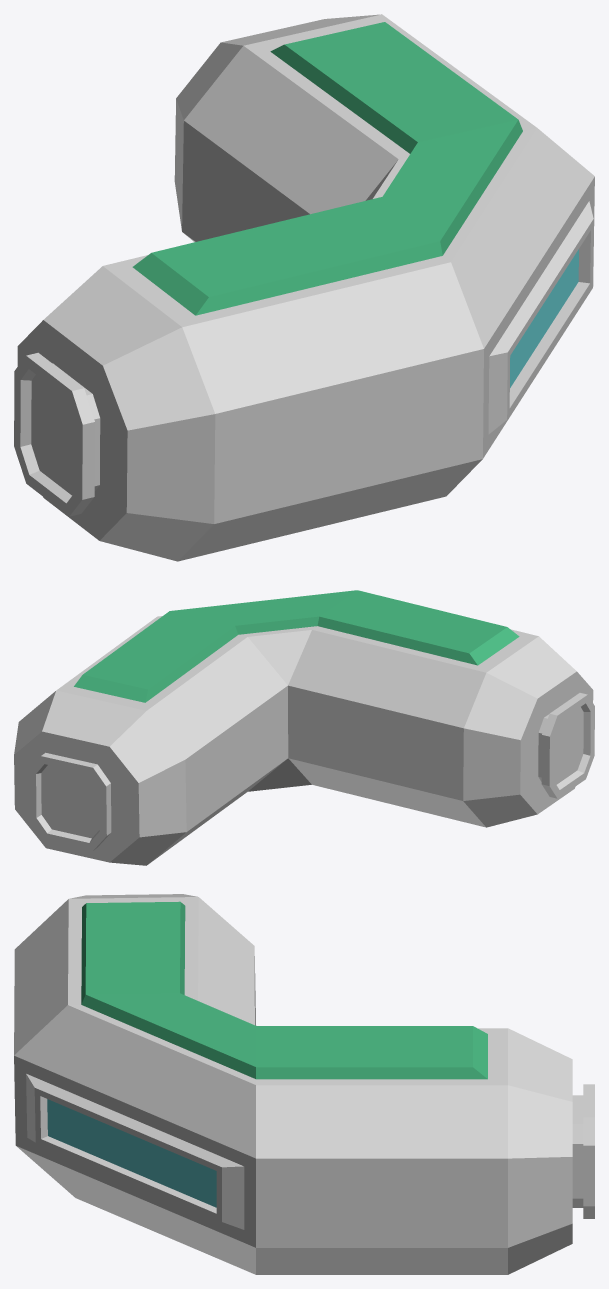
Rendered from TurnTonel.fbx.
The picture shows the model from 3 angles, top to bottom: view 1: azimuth 30°, elevation 25°; view 2: azimuth 150°, elevation 25°; view 3: azimuth 270°, elevation 25°; orthographic projection. The views are drawn at different scales.
Visible parts, largest first — view 1: TurnTonel; view 2: TurnTonel; view 3: TurnTonel.
Boxes of the visible parts, x1=… form: TurnTonel: x1=14, y1=14, x2=594, y2=561; TurnTonel: x1=14, y1=590, x2=594, y2=865; TurnTonel: x1=14, y1=894, x2=594, y2=1274.
Size of the model in its own units: 182 by 70.61 by 181.
